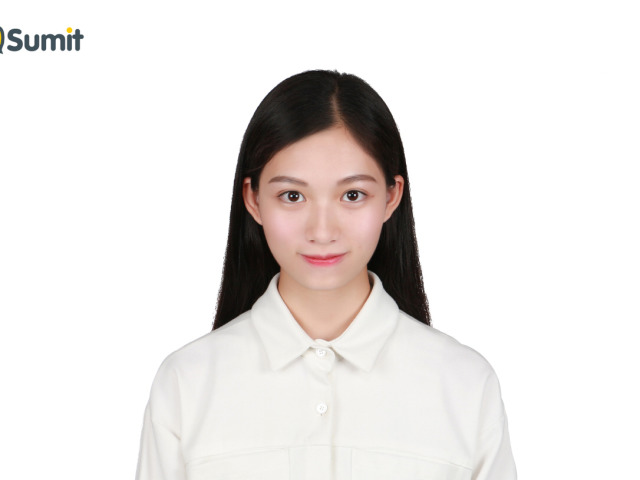unmask: (252, 128, 382, 287)
